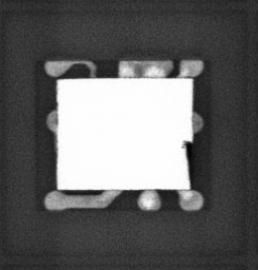DIE_BROKEN: (182, 138, 194, 189)
